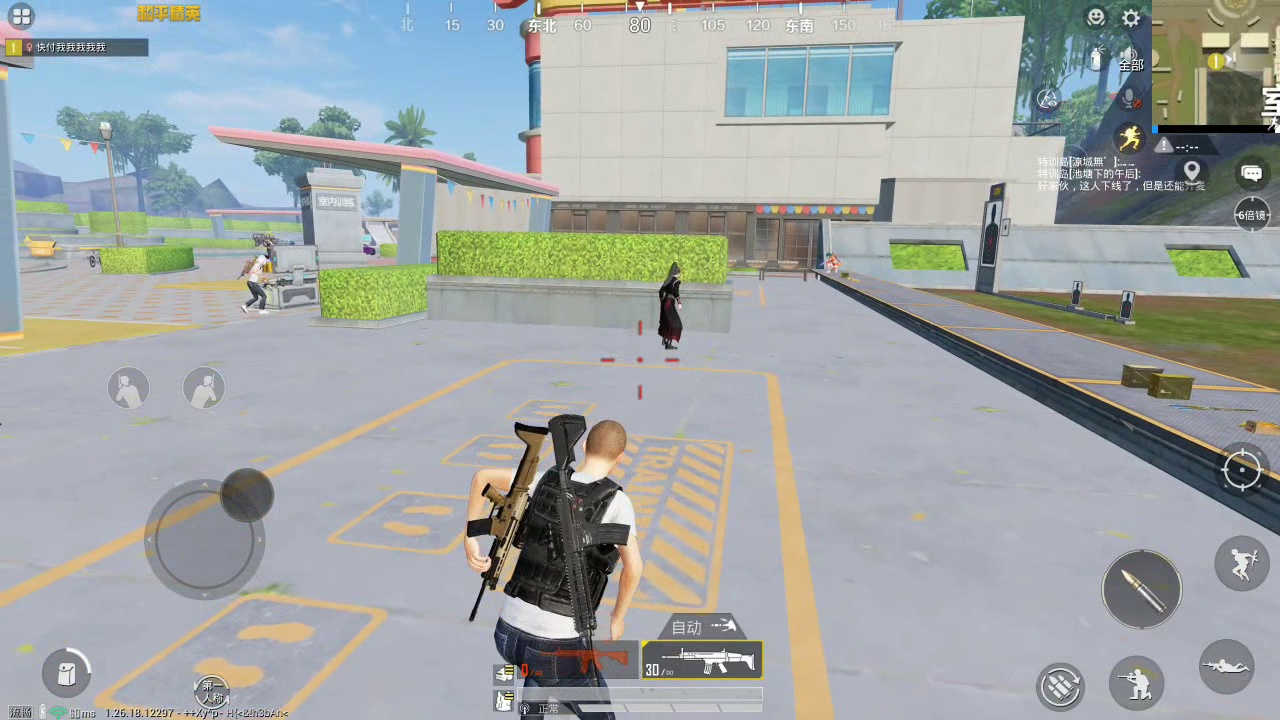enemy: (657, 262, 685, 350), (243, 252, 271, 315), (820, 249, 843, 274)
